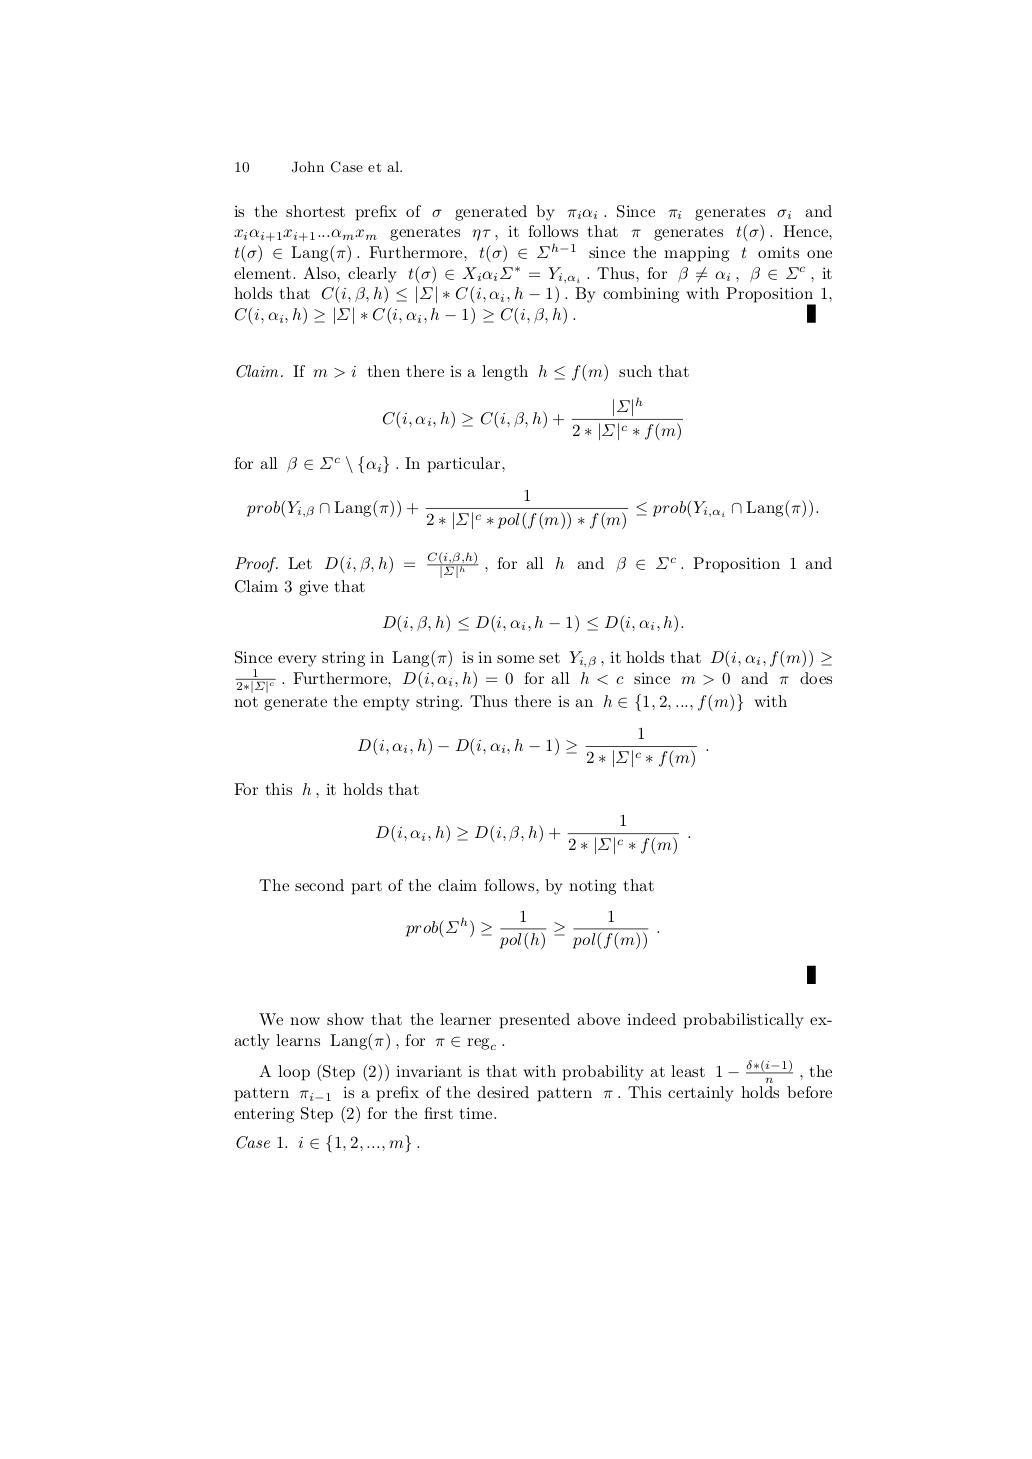formula: (357, 726, 708, 768), (382, 396, 682, 441), (375, 813, 690, 855), (405, 909, 659, 950), (382, 614, 684, 633)
